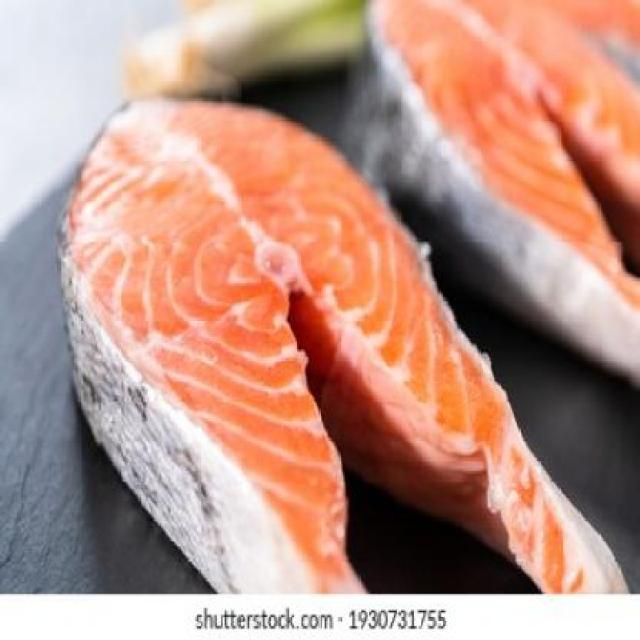salmon: (23, 57, 627, 596), (318, 3, 640, 382)
